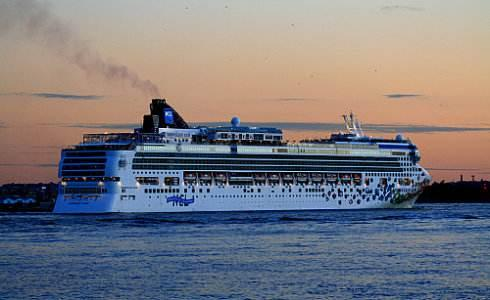youlun: (51, 97, 434, 217)
